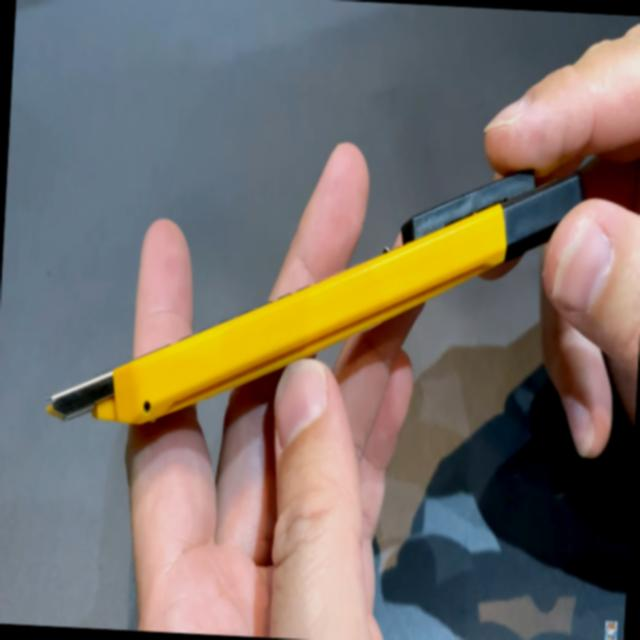cutter: (26, 127, 640, 496)
